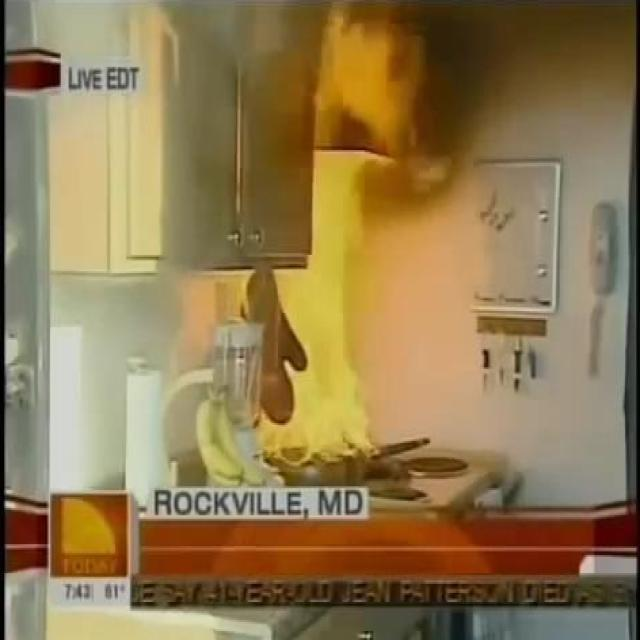fire: (7, 0, 240, 134)
smoke: (255, 0, 412, 466)
